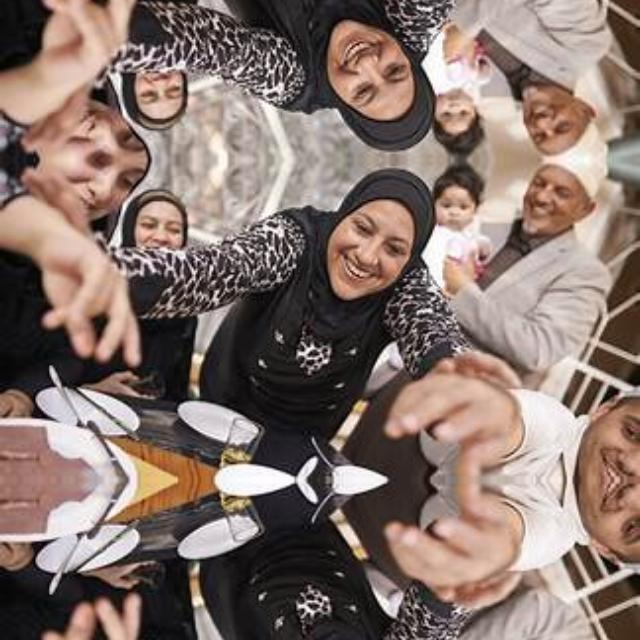person: (213, 160, 443, 410), (213, 0, 443, 160), (213, 549, 443, 640), (502, 3, 612, 160), (502, 160, 612, 316), (430, 160, 488, 258), (430, 62, 488, 160)
